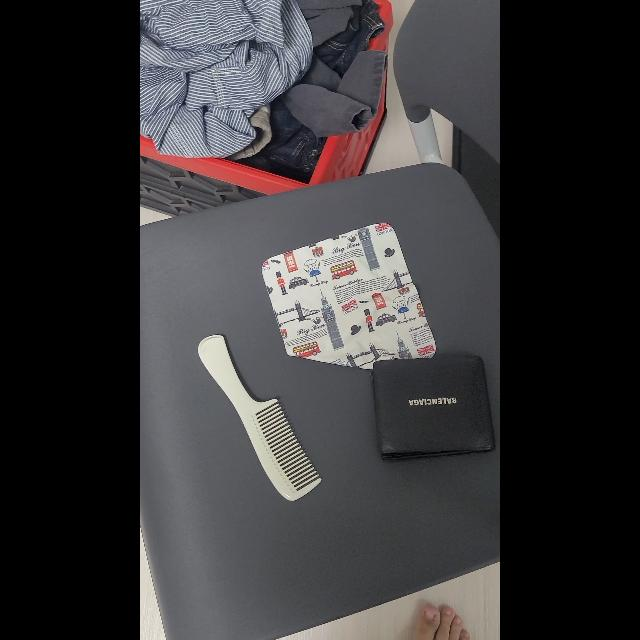COMB: (198, 335, 322, 501)
Glasses cleaning cloth: (260, 224, 436, 370)
WALLET: (373, 355, 497, 461)
